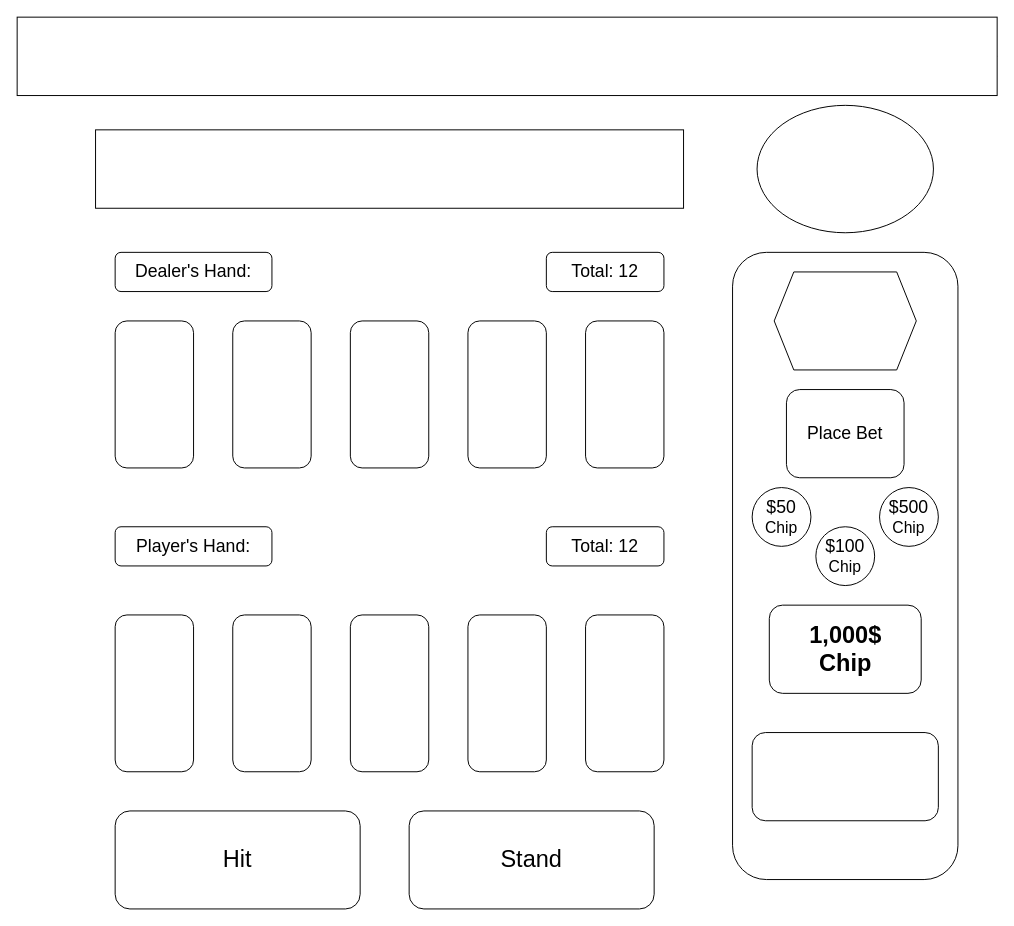
Some shapes in this 1014 by 926 pixel diagram are drawn without their labels. The box of each missing label's shape, as (x1, y1, x2, y2) in pixels:
Amount Bet: (773, 271, 916, 370)
Bankroll: $Amount: (751, 732, 938, 821)
Blackjack: (16, 16, 997, 96)
Payout 3:2: (756, 104, 933, 233)
TEXT/ BUST / Dealer Wins/ Player Wins: (95, 129, 684, 208)
